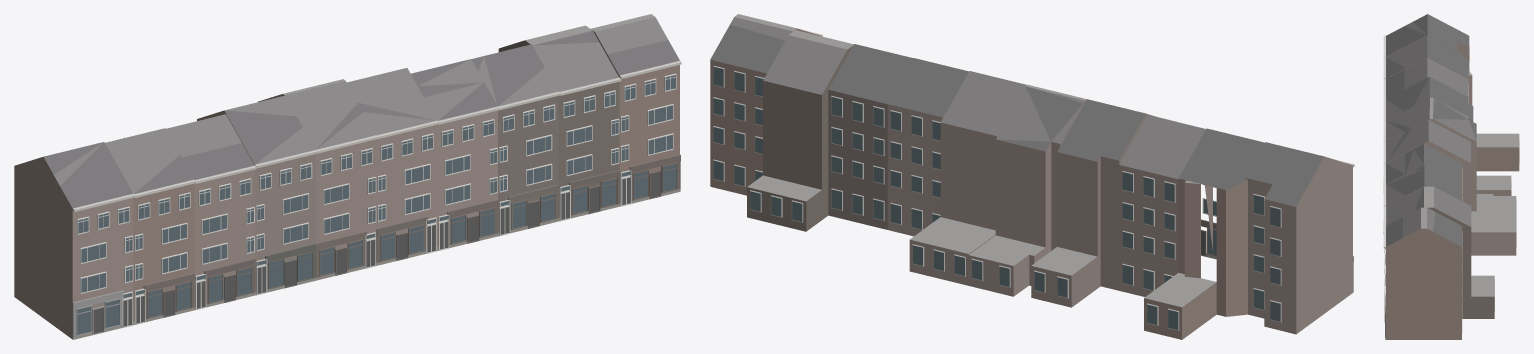
Rendered from chunk-face-molukken-35-67-r1.glb.
The picture shows the model from 3 angles, left to right: view 1: azimuth 30°, elevation 25°; view 2: azimuth 150°, elevation 25°; view 3: azimuth 270°, elevation 25°; orthographic projection. The views are drawn at different scales.
Parts seen in each view (by area): view 1: face-molukken-35-67-r1; view 2: face-molukken-35-67-r1; view 3: face-molukken-35-67-r1.
Boxes of the visible parts, x1,y1,x2,y2 form: face-molukken-35-67-r1: (14, 14, 681, 339); face-molukken-35-67-r1: (710, 14, 1354, 339); face-molukken-35-67-r1: (1383, 14, 1519, 339).
Size of the model in its own units: 61.4 by 15.69 by 16.74.
